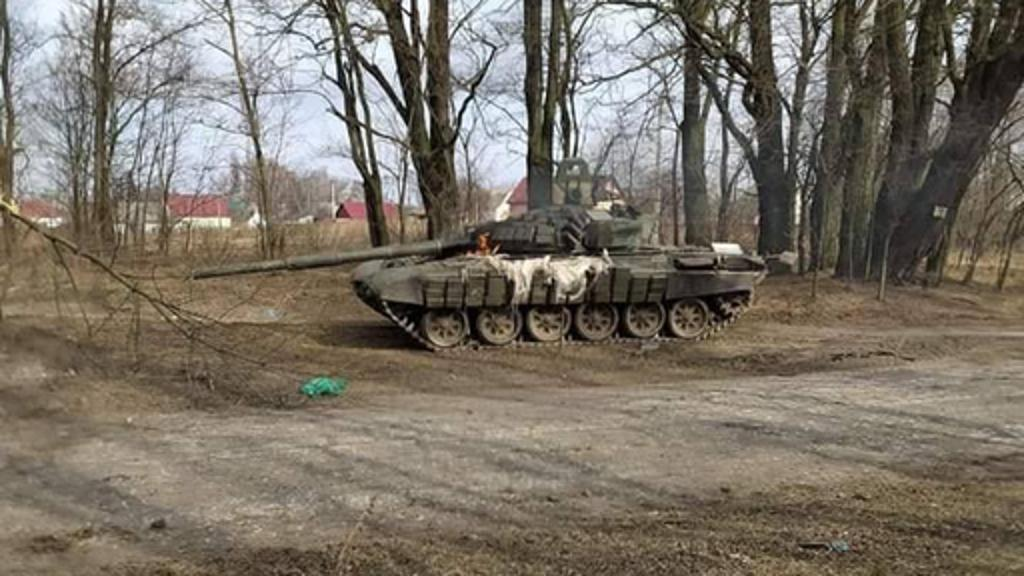TANK: (188, 154, 766, 352)
